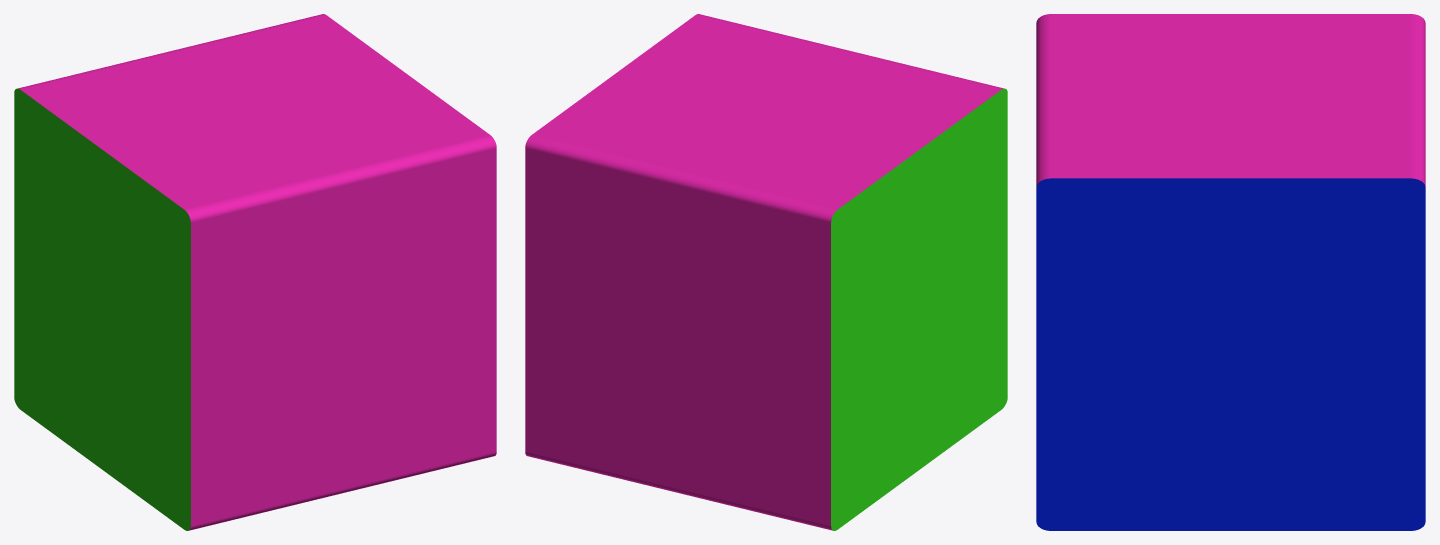
File: normalcube2.gltf
3 views of the same model, side by side, from view 1: azimuth 30°, elevation 25°; view 2: azimuth 150°, elevation 25°; view 3: azimuth 270°, elevation 25° (orthographic). The views are drawn at different scales.
Visible parts, largest first — view 1: Cube; view 2: Cube; view 3: Cube.
Part boxes in pixels (box(x1,y1,x2,y2)): Cube: box(14, 14, 496, 530); Cube: box(525, 14, 1007, 530); Cube: box(1036, 14, 1425, 530).
Size of the model in its own units: 2 by 2 by 2.
